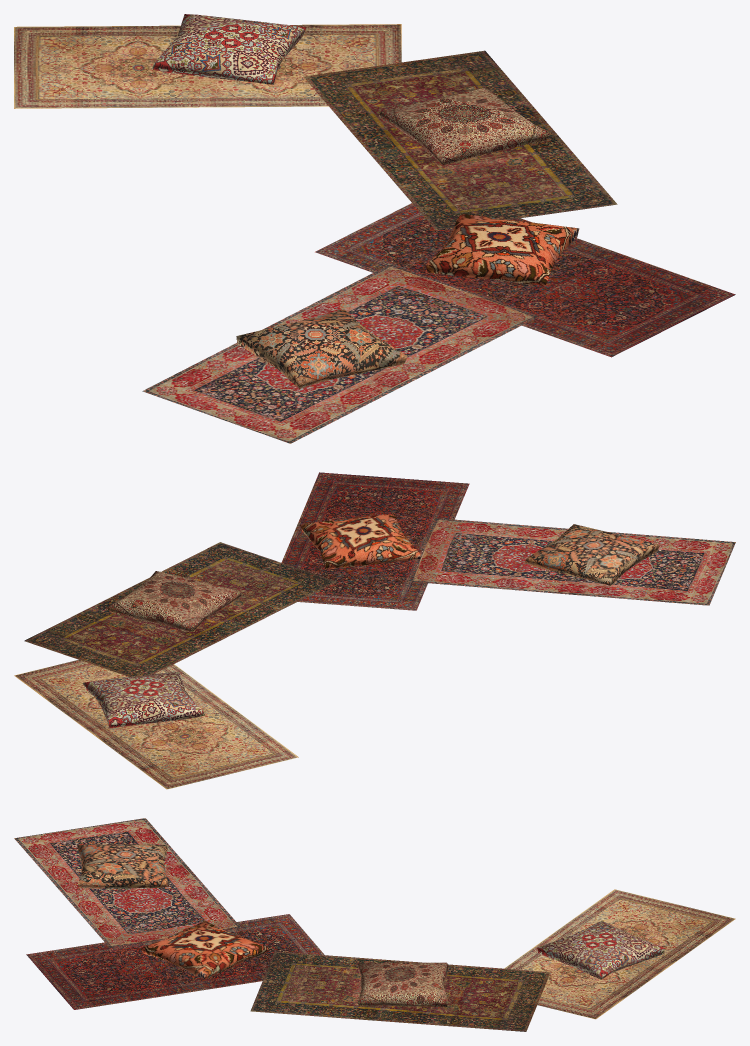
The model's file is alfombra_lev4.glb.
The picture shows the model from 3 angles, top to bottom: view 1: azimuth 30°, elevation 25°; view 2: azimuth 150°, elevation 25°; view 3: azimuth 270°, elevation 25°; orthographic projection. The views are drawn at different scales.
Parts seen in each view (by area): view 1: Tapis, Coussins; view 2: Tapis, Coussins; view 3: Tapis, Coussins.
Part boxes in pixels (box(x1,y1,x2,y2)): Tapis: box(14, 24, 735, 443); Coussins: box(152, 14, 579, 388); Tapis: box(14, 472, 735, 789); Coussins: box(82, 513, 659, 727); Tapis: box(14, 818, 735, 1031); Coussins: box(77, 844, 665, 1007).
Bounding box in the file's own units: 149 × 7.17 × 212.
2 materials, 2 textured.
